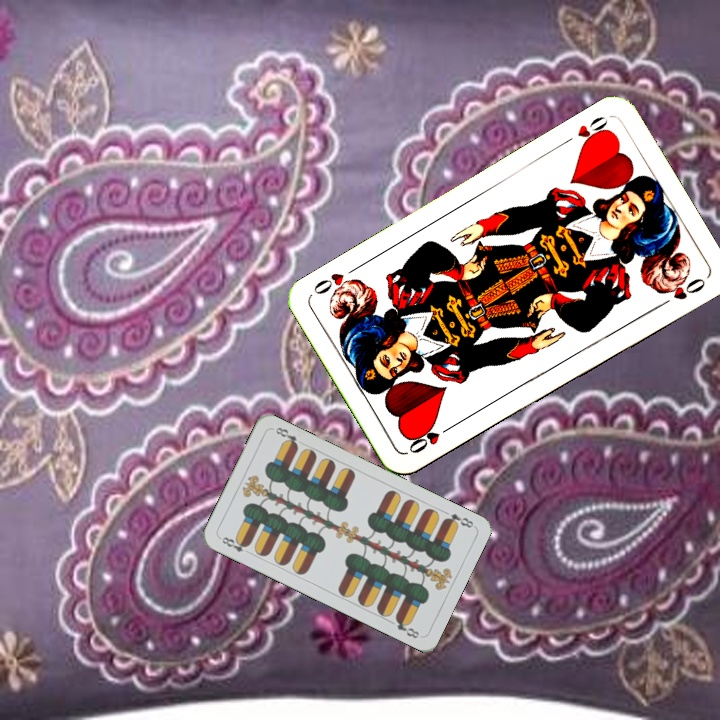E8: (439, 509, 476, 531), (216, 533, 252, 555)
HO: (558, 112, 613, 151), (404, 420, 458, 456)
